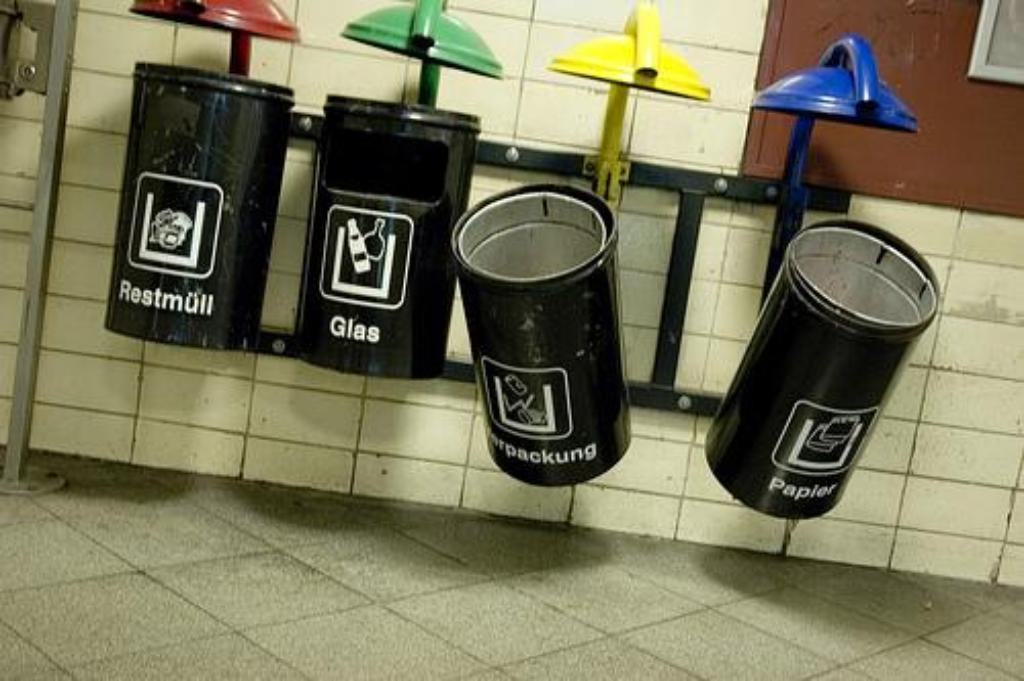dustbin: (739, 193, 952, 545), (433, 175, 649, 499), (127, 41, 299, 380), (311, 70, 479, 401)
